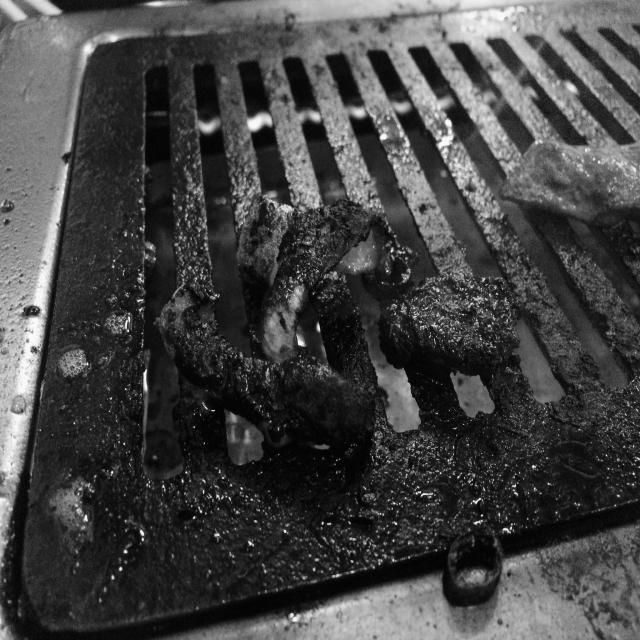OK undercooked beef,: (497, 125, 640, 247)
overcooked beef,: (141, 260, 387, 467), (229, 174, 427, 362), (378, 268, 525, 382)
